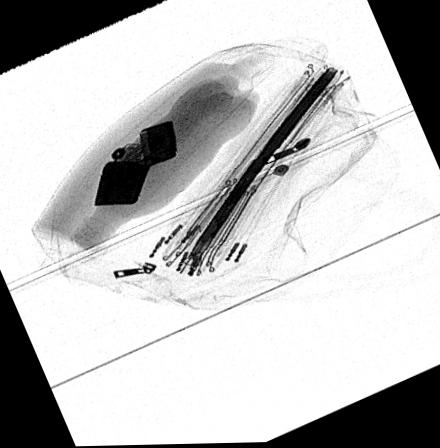Lighter: (94, 120, 178, 207)
